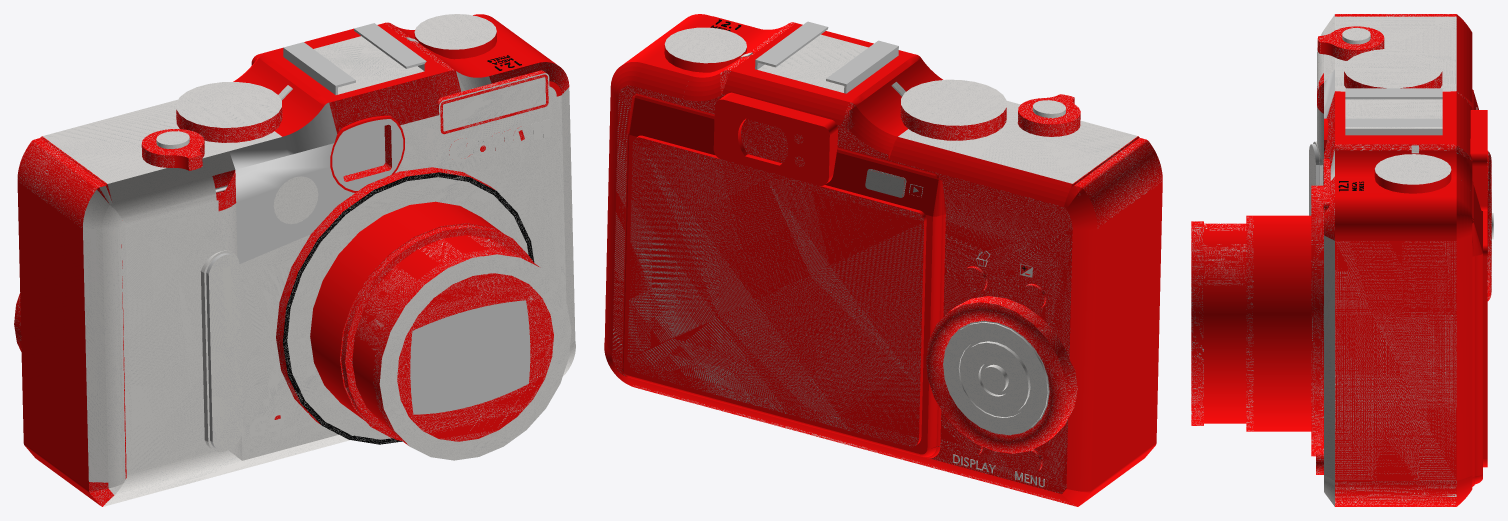
The model's file is model_align.obj.
The picture shows the model from 3 angles, left to right: view 1: azimuth 30°, elevation 25°; view 2: azimuth 150°, elevation 25°; view 3: azimuth 270°, elevation 25°; orthographic projection. The views are drawn at different scales.
Visible parts, largest first — view 1: mesh58_mesh58-geometry, mesh64_mesh64-geometry, mesh65_mesh65-geometry, mesh63_mesh63-geometry, mesh66_mesh66-geometry; view 2: mesh58_mesh58-geometry, mesh74_mesh74-geometry, mesh68_mesh68-geometry, mesh73_mesh73-geometry, mesh64_mesh64-geometry, mesh65_mesh65-geometry, mesh63_mesh63-geometry, mesh66_mesh66-geometry; view 3: mesh58_mesh58-geometry, mesh64_mesh64-geometry, mesh65_mesh65-geometry, mesh73_mesh73-geometry, mesh74_mesh74-geometry, mesh63_mesh63-geometry, mesh66_mesh66-geometry, mesh68_mesh68-geometry.
Part boxes in pixels (x1,y1,x2,y2): mesh58_mesh58-geometry: (17, 14, 575, 506); mesh64_mesh64-geometry: (283, 23, 426, 94); mesh65_mesh65-geometry: (176, 82, 282, 142); mesh63_mesh63-geometry: (414, 14, 496, 59); mesh66_mesh66-geometry: (141, 129, 204, 170); mesh58_mesh58-geometry: (604, 14, 1162, 506); mesh74_mesh74-geometry: (627, 92, 926, 447); mesh68_mesh68-geometry: (926, 296, 1077, 453); mesh73_mesh73-geometry: (622, 93, 945, 458); mesh64_mesh64-geometry: (755, 21, 898, 93); mesh65_mesh65-geometry: (900, 79, 1006, 140); mesh63_mesh63-geometry: (664, 27, 746, 72); mesh66_mesh66-geometry: (1017, 94, 1080, 136); mesh58_mesh58-geometry: (1191, 14, 1472, 506); mesh64_mesh64-geometry: (1345, 88, 1442, 135); mesh65_mesh65-geometry: (1344, 48, 1442, 88); mesh73_mesh73-geometry: (1472, 89, 1482, 486); mesh74_mesh74-geometry: (1470, 110, 1487, 467); mesh63_mesh63-geometry: (1374, 154, 1451, 193); mesh66_mesh66-geometry: (1317, 26, 1384, 60); mesh68_mesh68-geometry: (1487, 151, 1493, 300).
Bounding box in the file's own units: 0.1014 × 0.071 × 0.0579.
